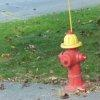a fire hydrant: (59, 33, 87, 95)
